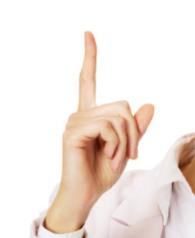up: (58, 31, 158, 197)
